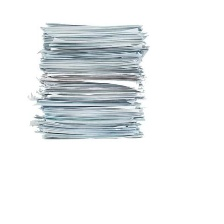book: (26, 16, 161, 146)
